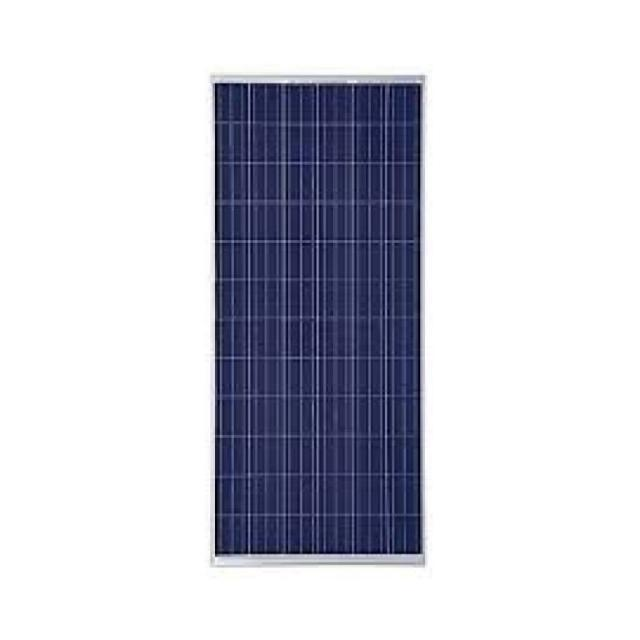no faulty: (210, 71, 426, 568)
